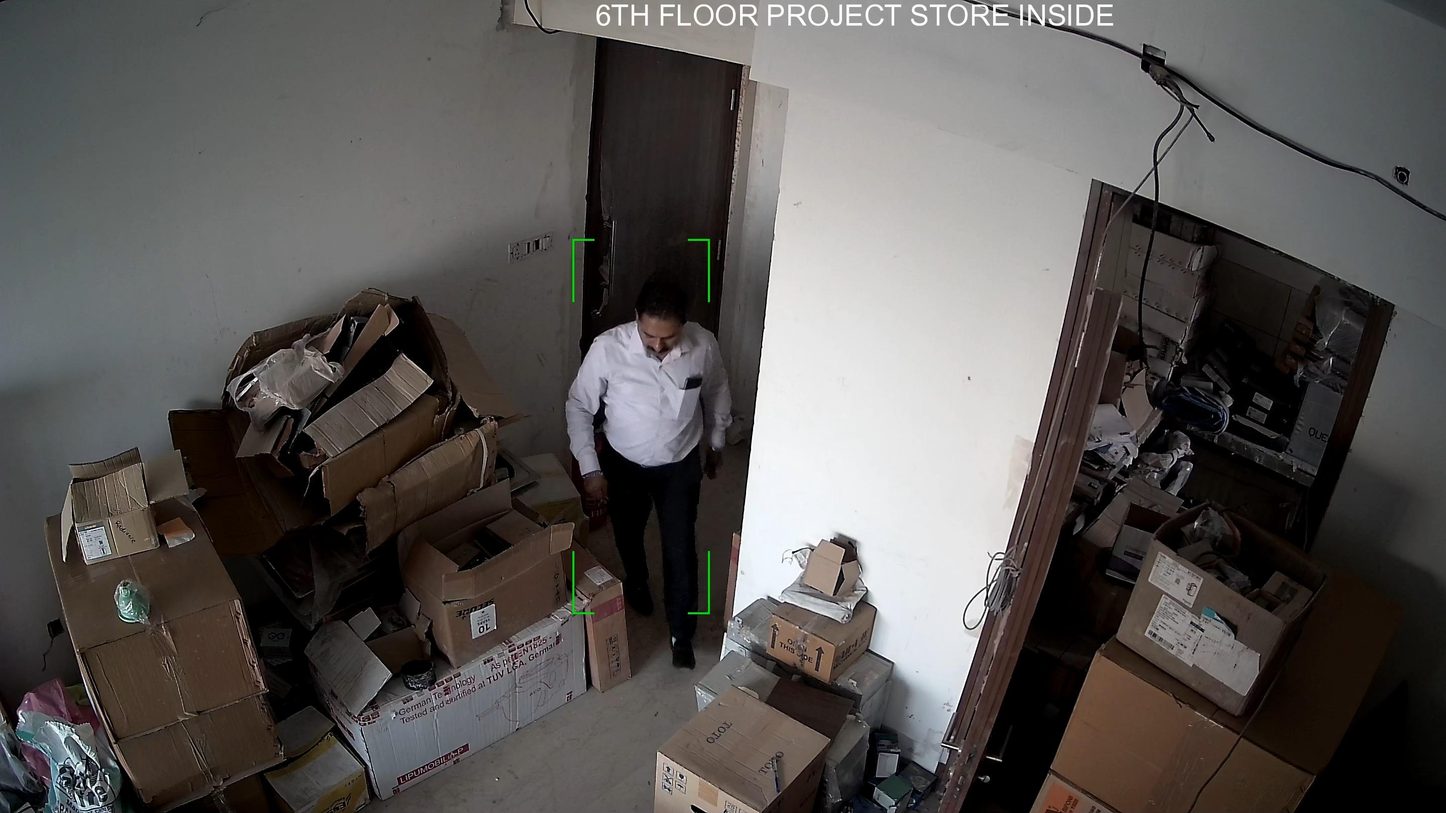Door-Close: (567, 41, 743, 512)
